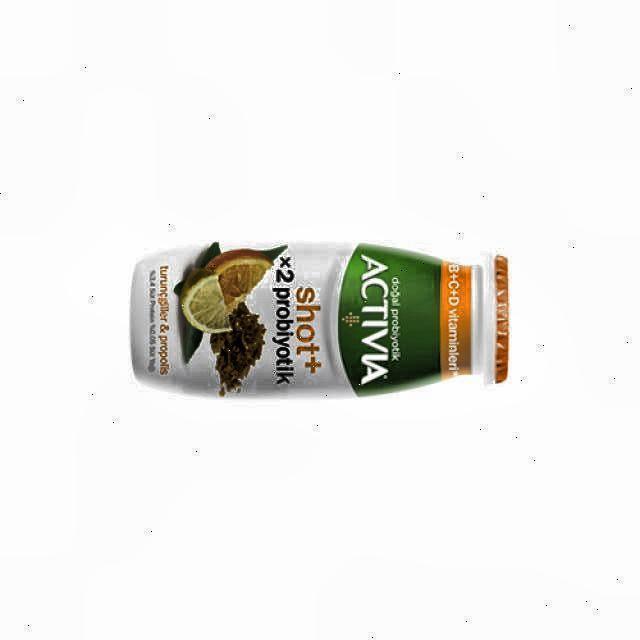plastic: (130, 242, 509, 397)
